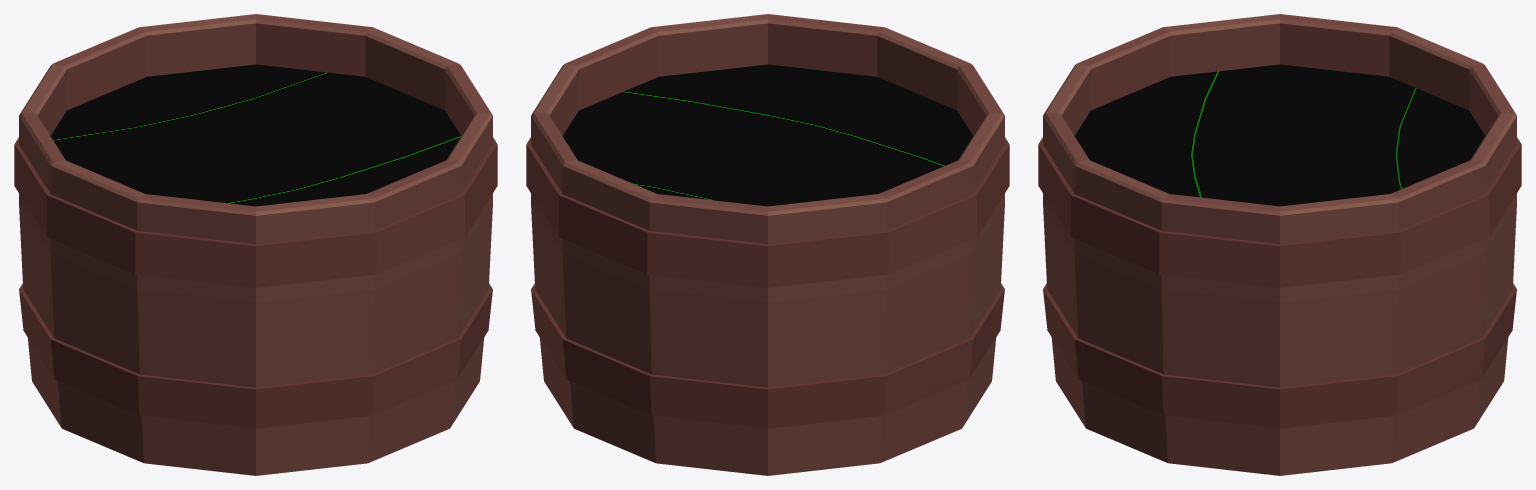
The model's file is water_barrel_metal.fbx.
3 views of the same model, side by side, from view 1: azimuth 30°, elevation 25°; view 2: azimuth 150°, elevation 25°; view 3: azimuth 270°, elevation 25° (orthographic).
Parts seen in each view (by area): view 1: water_barrel_metal, water_barrel_water_0; view 2: water_barrel_metal, water_barrel_water_0; view 3: water_barrel_metal, water_barrel_water_0.
Boxes of the visible parts, x1,y1,x2,y2 form: water_barrel_metal: [14, 14, 497, 475]; water_barrel_water_0: [50, 64, 461, 206]; water_barrel_metal: [526, 14, 1009, 475]; water_barrel_water_0: [562, 64, 973, 206]; water_barrel_metal: [1038, 14, 1521, 475]; water_barrel_water_0: [1075, 64, 1484, 206].
Bounding box in the file's own units: 56.92 × 34.89 × 56.92.
